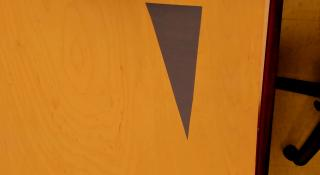Triangle: (145, 2, 203, 141)
